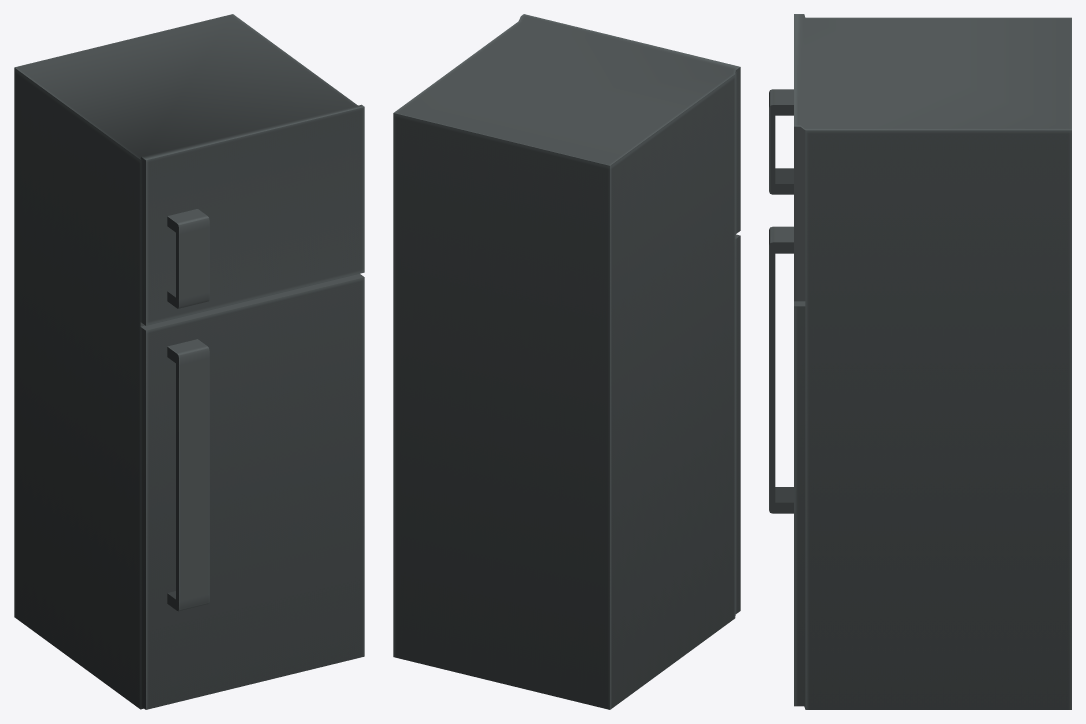
File: Asset_Prop_Fridge.FBX
The picture shows the model from 3 angles, left to right: view 1: azimuth 30°, elevation 25°; view 2: azimuth 150°, elevation 25°; view 3: azimuth 270°, elevation 25°; orthographic projection. The views are drawn at different scales.
Parts seen in each view (by area): view 1: Box001; view 2: Box001; view 3: Box001.
Part boxes in pixels (x1,y1,x2,y2): Box001: [14, 14, 364, 709]; Box001: [393, 14, 740, 709]; Box001: [769, 14, 1071, 709].
Bounding box in the file's own units: 75 × 181 × 85.22.
Materials: 1 (1 with a texture image).
